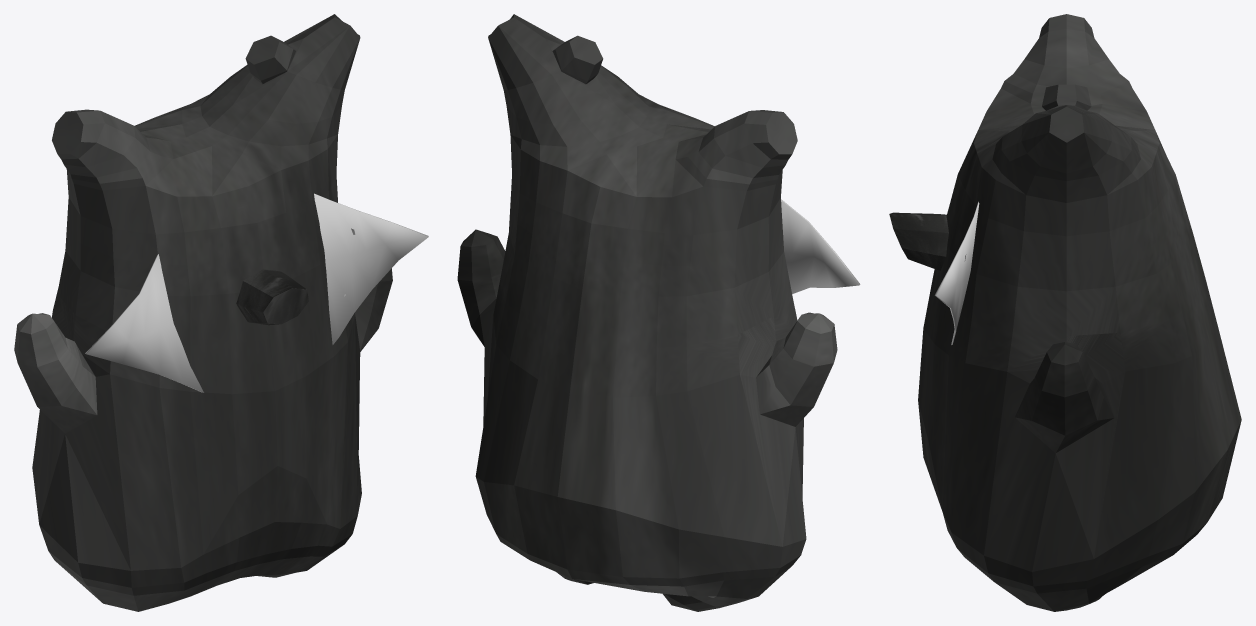
The model's file is frame_0060.obj.
3 views of the same model, side by side, from view 1: azimuth 30°, elevation 25°; view 2: azimuth 150°, elevation 25°; view 3: azimuth 270°, elevation 25° (orthographic).
Parts seen in each view (by area): view 1: korok, leaf, nose; view 2: korok, leaf; view 3: korok, nose, leaf.
Boxes of the visible parts, x1,y1,x2,y2 form: korok: (14,14,392,611); leaf: (85,193,428,392); nose: (236,269,308,325); korok: (457,14,837,611); leaf: (781,199,860,293); korok: (918,14,1241,611); nose: (889,212,948,270); leaf: (934,201,979,344).
Bounding box in the file's own units: 1.52 × 2.11 × 1.27.
